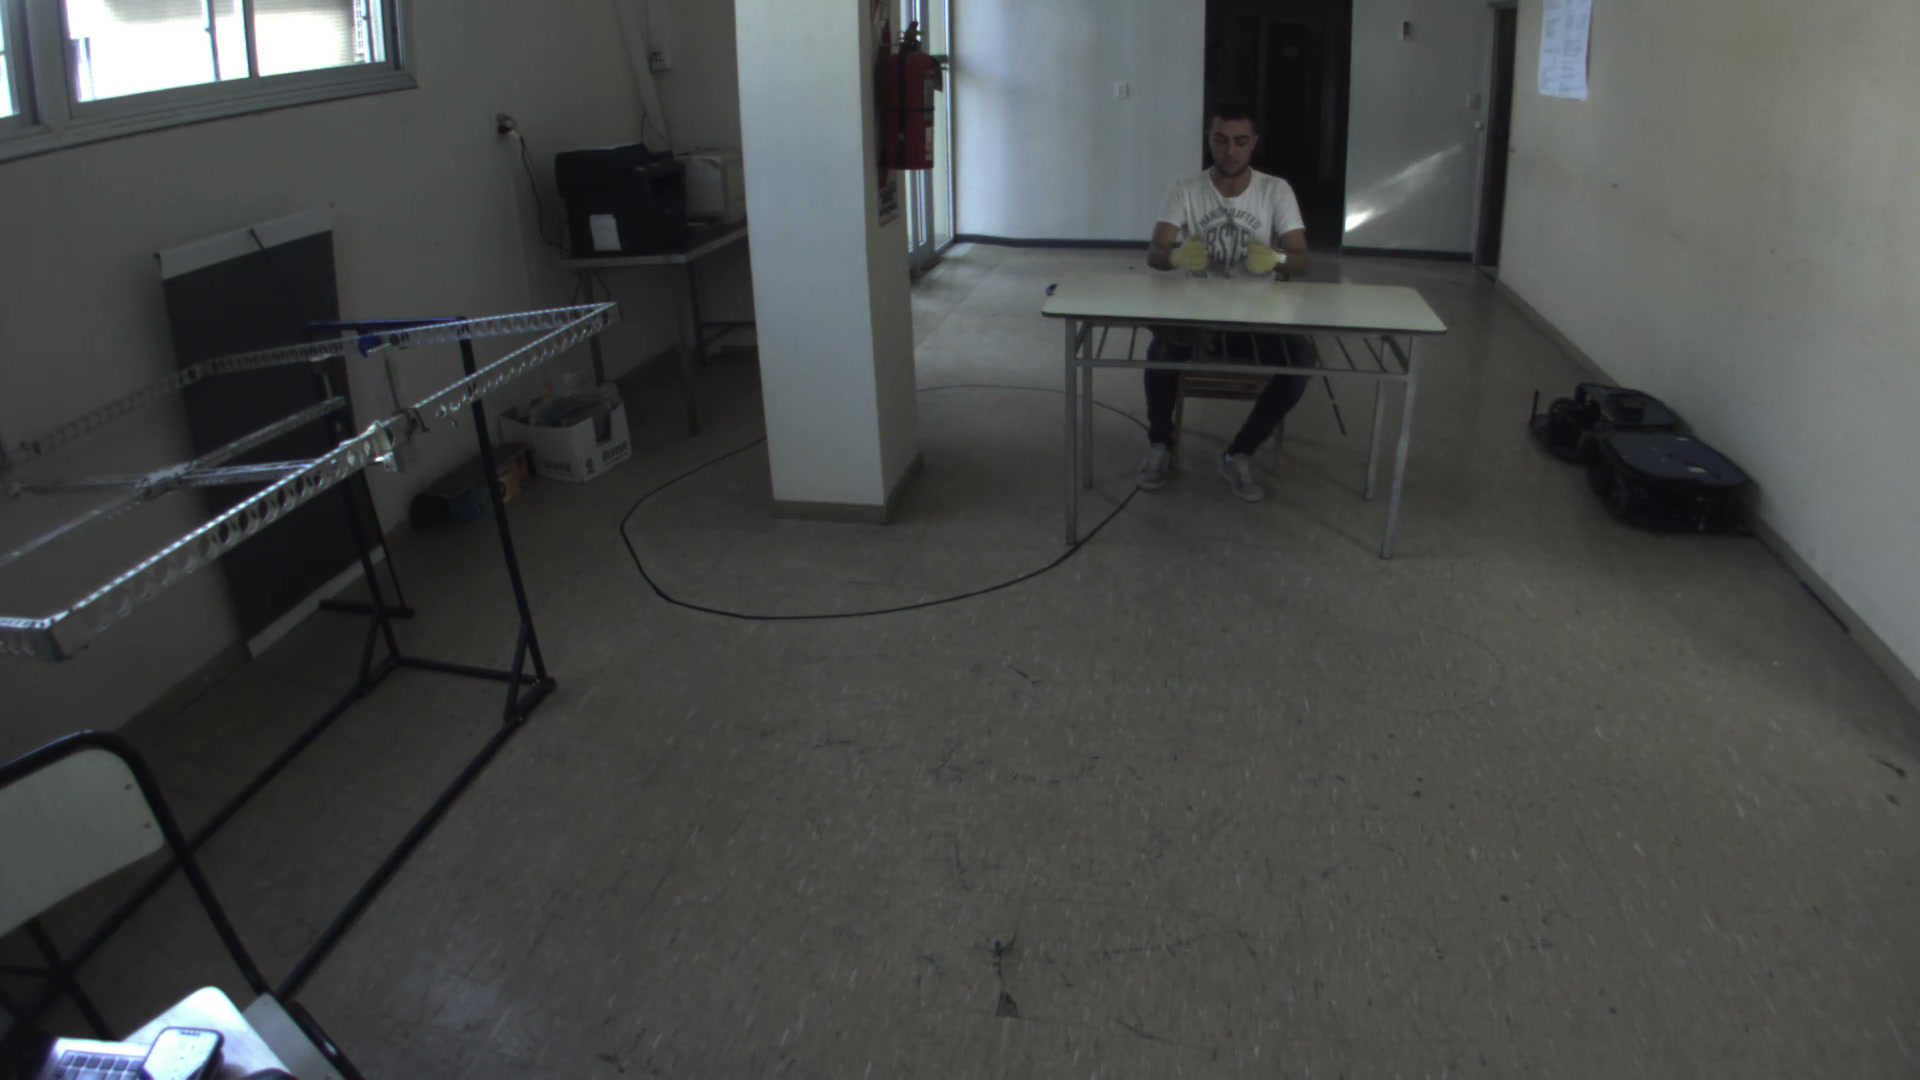hand: (1164, 232, 1215, 280), (1234, 236, 1291, 273)
